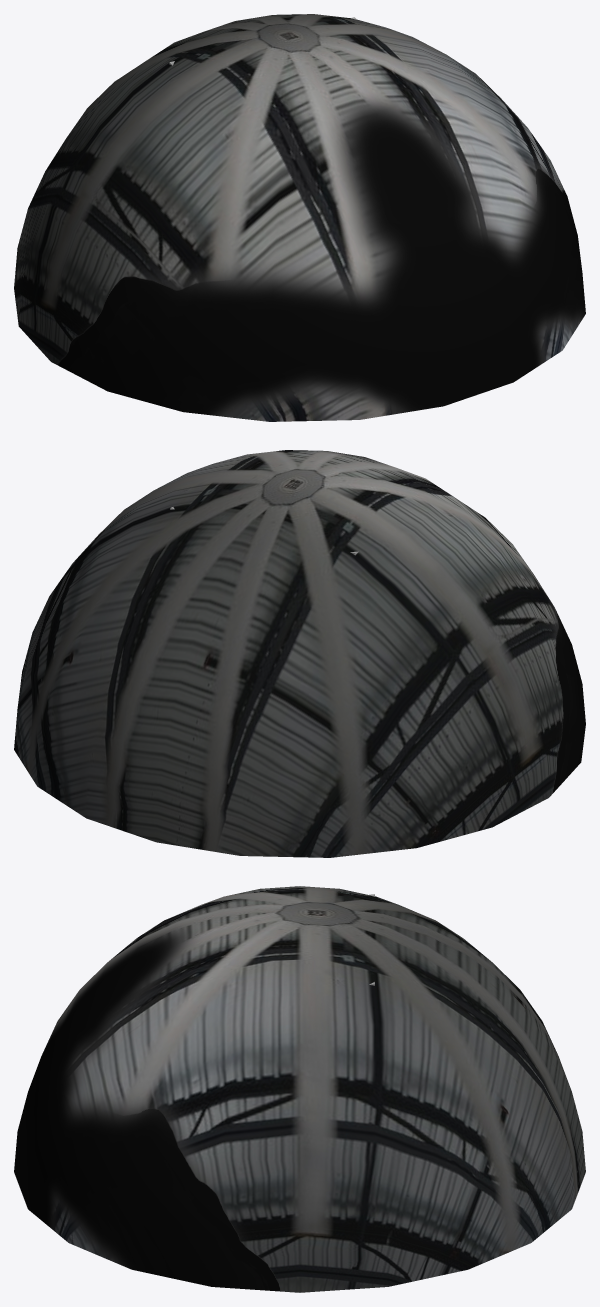
File: PinBall.fbx
The picture shows the model from 3 angles, top to bottom: view 1: azimuth 30°, elevation 25°; view 2: azimuth 150°, elevation 25°; view 3: azimuth 270°, elevation 25°; orthographic projection.
Parts seen in each view (by area): view 1: pSphere1; view 2: pSphere1; view 3: pSphere1.
Part boxes in pixels (x1,y1,x2,y2): pSphere1: (14, 14, 585, 421); pSphere1: (14, 450, 585, 857); pSphere1: (14, 886, 585, 1292).
Size of the model in its own units: 53.88 by 27.89 by 53.88.
